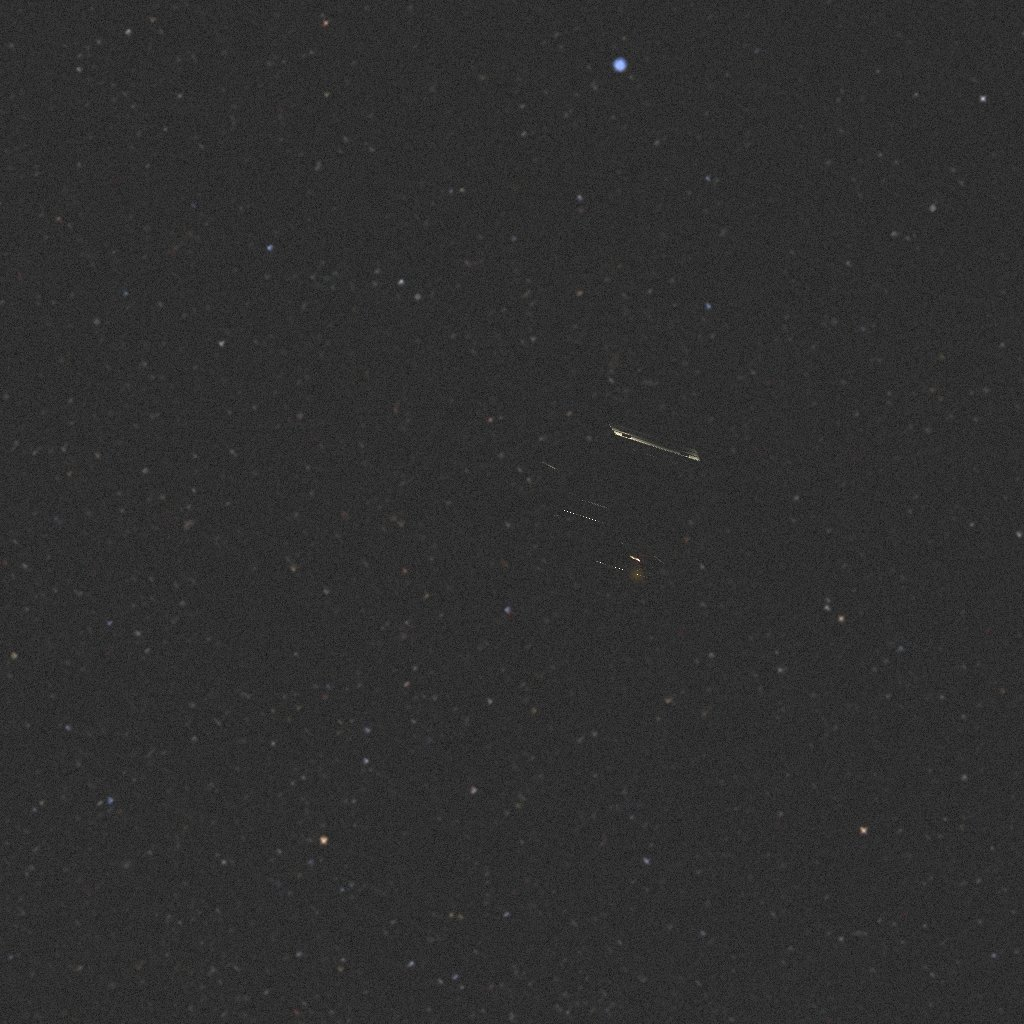earth_observation_sat_1: (542, 420, 701, 587)
